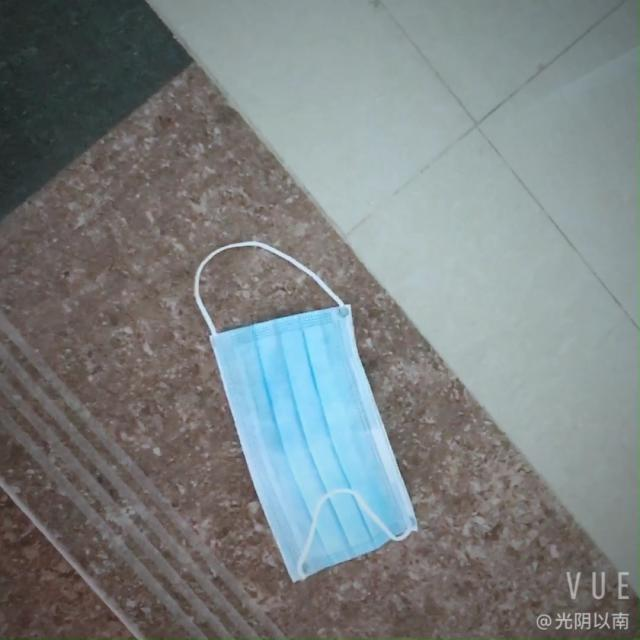non-organic waste: (196, 288, 418, 571)
